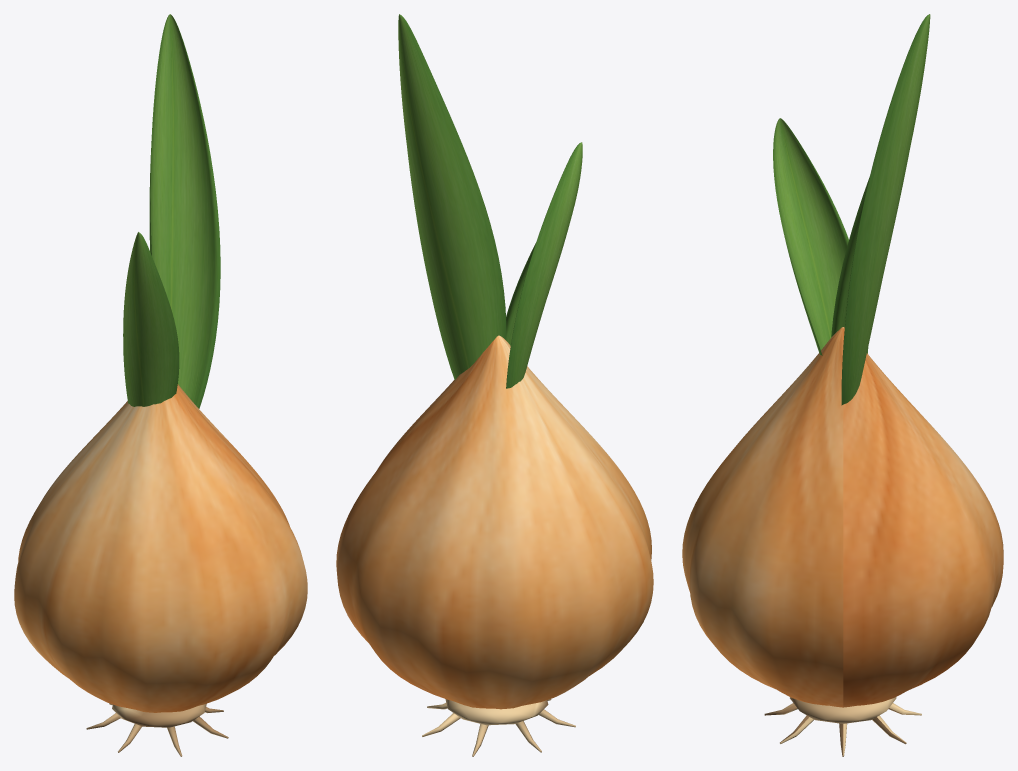
Rendered from NP_Tulip_Sprout.fbx.
The picture shows the model from 3 angles, left to right: view 1: azimuth 30°, elevation 25°; view 2: azimuth 150°, elevation 25°; view 3: azimuth 270°, elevation 25°; orthographic projection. The views are drawn at different scales.
Parts seen in each view (by area): view 1: NP_Tulip_Sprout; view 2: NP_Tulip_Sprout; view 3: NP_Tulip_Sprout.
Part boxes in pixels (<box>): NP_Tulip_Sprout: <box>14,14,307,756</box>; NP_Tulip_Sprout: <box>336,14,653,756</box>; NP_Tulip_Sprout: <box>682,14,1003,756</box>.
Size of the model in its own units: 20.4 by 51.46 by 20.38.
